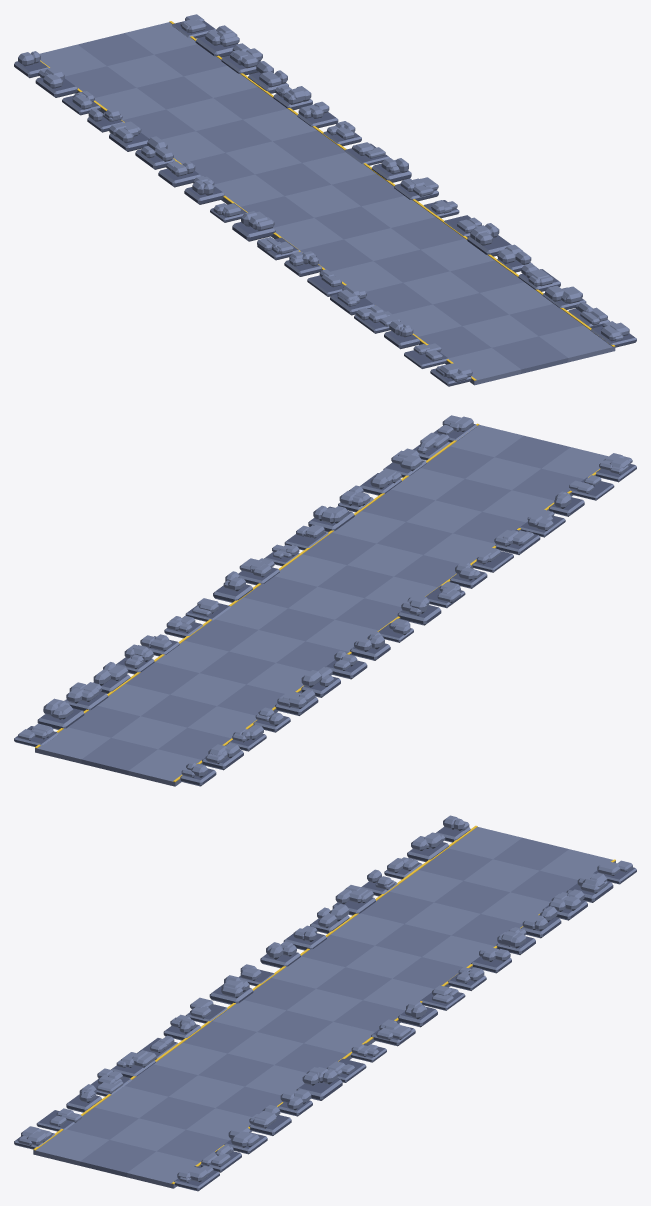
File: tormenta_Suelo.glb
3 renders of one model, top to bottom at view 1: azimuth 30°, elevation 25°; view 2: azimuth 150°, elevation 25°; view 3: azimuth 330°, elevation 25°, orthographic.
Visible parts, largest first — view 1: Mapa_tormenta_Suelo; view 2: Mapa_tormenta_Suelo; view 3: Mapa_tormenta_Suelo.
Boxes of the visible parts, x1,y1,x2,y2 form: Mapa_tormenta_Suelo: (14,14,636,386); Mapa_tormenta_Suelo: (14,415,636,786); Mapa_tormenta_Suelo: (14,815,636,1191).
Size of the model in its own units: 90.55 by 8.97 by 360.
Materials: 1 (1 with a texture image).
